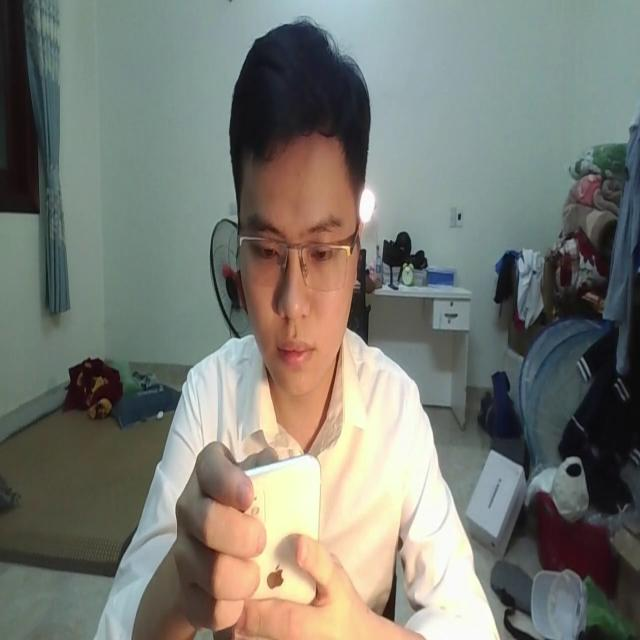phone: (221, 443, 325, 625)
student: (98, 6, 499, 640)
